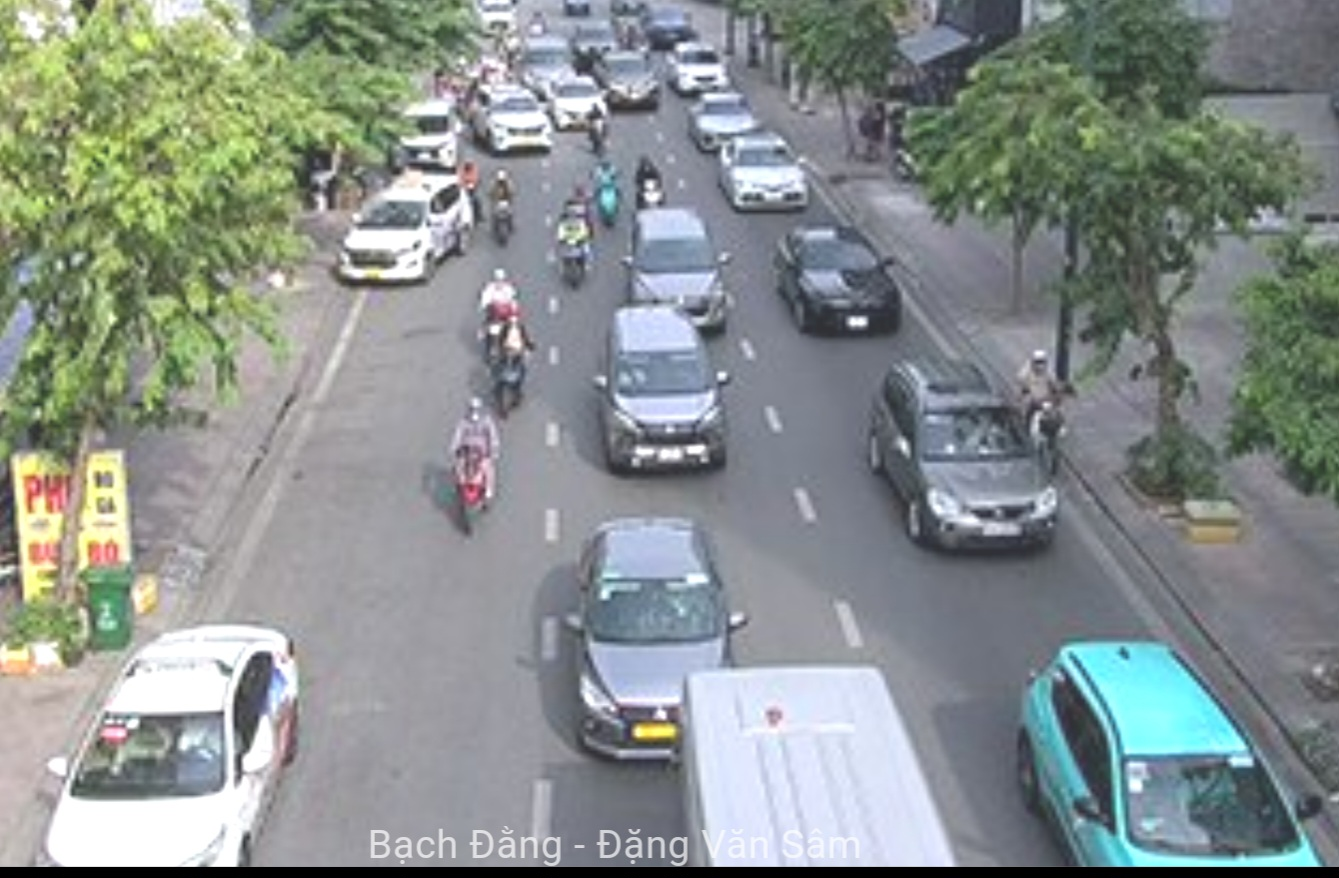car: (1006, 646, 1322, 872), (47, 631, 302, 878), (578, 522, 744, 764), (879, 356, 1057, 560), (607, 307, 727, 470), (770, 223, 903, 339), (343, 178, 478, 289), (628, 206, 736, 328), (719, 140, 814, 211), (472, 84, 548, 163), (394, 95, 466, 172), (664, 40, 739, 92), (692, 90, 761, 145), (546, 73, 608, 134), (598, 51, 659, 111)
